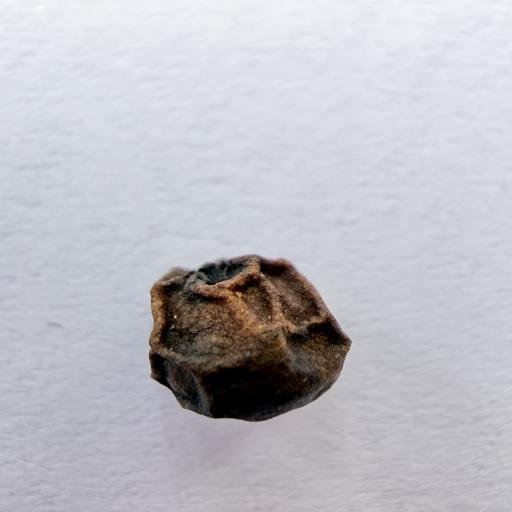Black_pepper: (117, 248, 391, 423)
